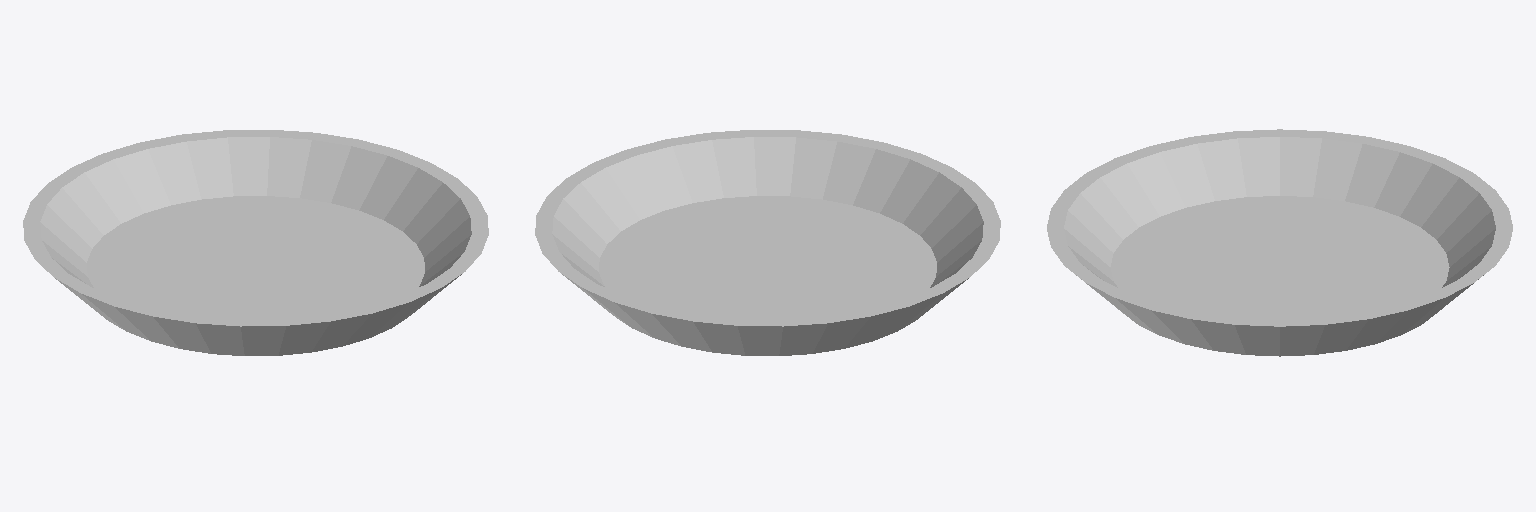
The model's file is plate1.obj.
3 renders of one model, left to right at view 1: azimuth 30°, elevation 25°; view 2: azimuth 150°, elevation 25°; view 3: azimuth 270°, elevation 25°, orthographic.
Visible parts, largest first — view 1: plate_Cylinder.005; view 2: plate_Cylinder.005; view 3: plate_Cylinder.005.
Part boxes in pixels (x1,y1,x2,y2): plate_Cylinder.005: (23, 130, 488, 355); plate_Cylinder.005: (535, 130, 1000, 355); plate_Cylinder.005: (1047, 129, 1512, 356).
Bounding box in the file's own units: 2.72 × 0.3589 × 2.72.